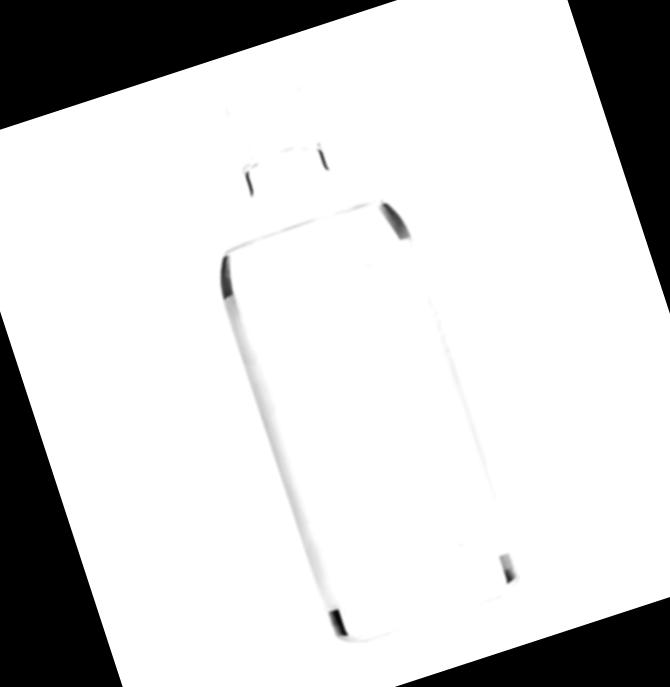cosmetic: (164, 52, 528, 647)
